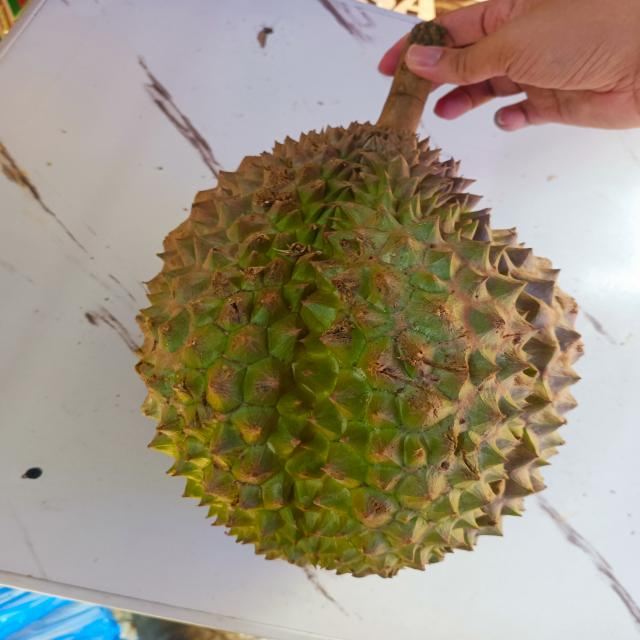mature: (138, 123, 581, 577)
